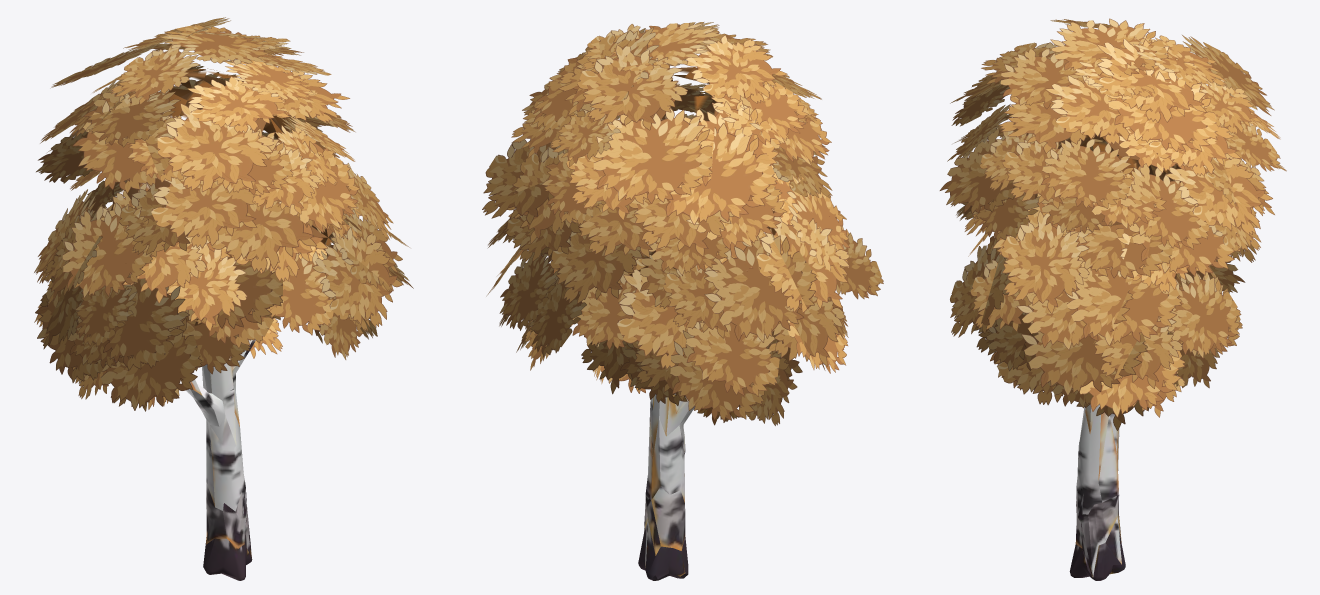
Rendered from birch_a.glb.
The picture shows the model from 3 angles, left to right: view 1: azimuth 30°, elevation 25°; view 2: azimuth 150°, elevation 25°; view 3: azimuth 270°, elevation 25°; orthographic projection.
Parts seen in each view (by area): view 1: birch_a; view 2: birch_a; view 3: birch_a.
Boxes of the visible parts, box(x1,y1,x2,y2) form: birch_a: box(34, 17, 413, 580); birch_a: box(482, 22, 883, 580); birch_a: box(939, 18, 1286, 580).
Bounding box in the file's own units: 5 × 7.05 × 4.55.
Materials: 1 (1 with a texture image).
